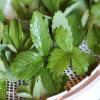Strawberry leaf: (27, 9, 52, 57), (10, 51, 47, 79), (46, 47, 71, 77), (70, 45, 89, 74), (55, 24, 73, 52)
